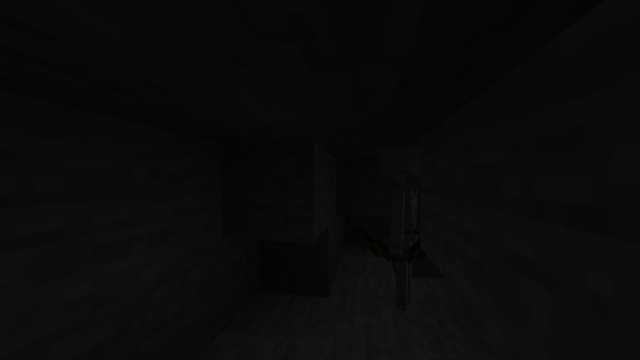squelettes: (379, 148, 434, 317)
